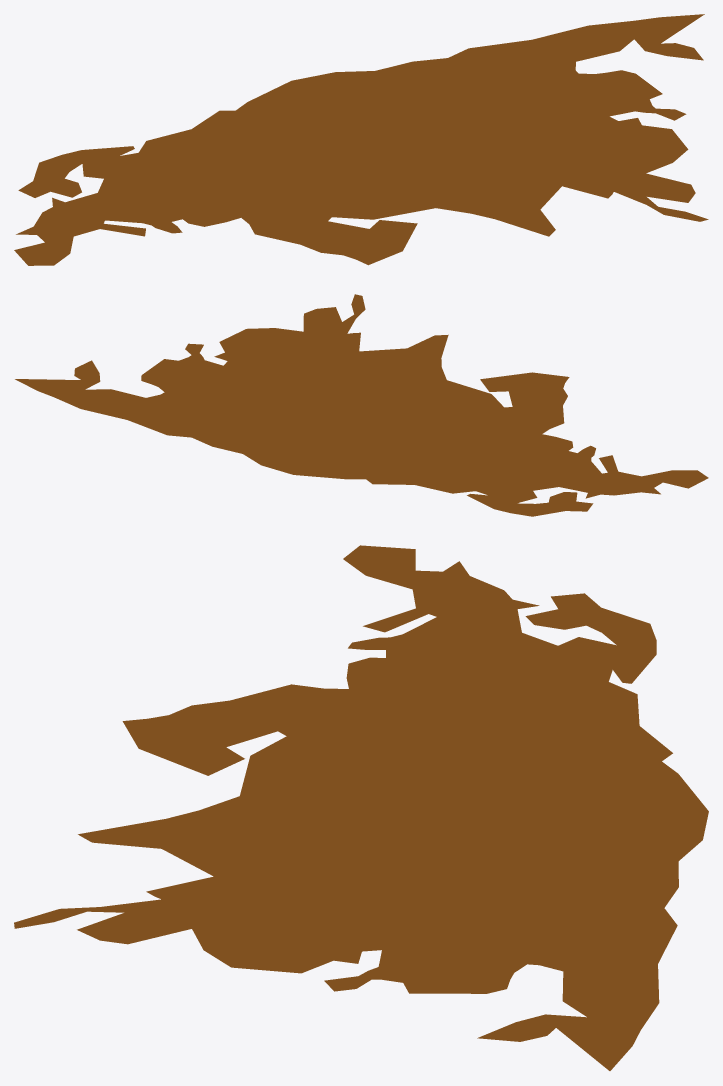
The model's file is europe.glb.
3 views of the same model, one above another, from view 1: azimuth 30°, elevation 25°; view 2: azimuth 150°, elevation 25°; view 3: azimuth 270°, elevation 25° (orthographic). The views are drawn at different scales.
Visible parts, largest first — view 1: europe.001; view 2: europe.001; view 3: europe.001.
Boxes of the visible parts, x1,y1,x2,y2 form: europe.001: (14, 14, 708, 265); europe.001: (15, 294, 708, 516); europe.001: (14, 545, 708, 1070).
Bounding box in the file's own units: 141 × 0 × 78.48.
